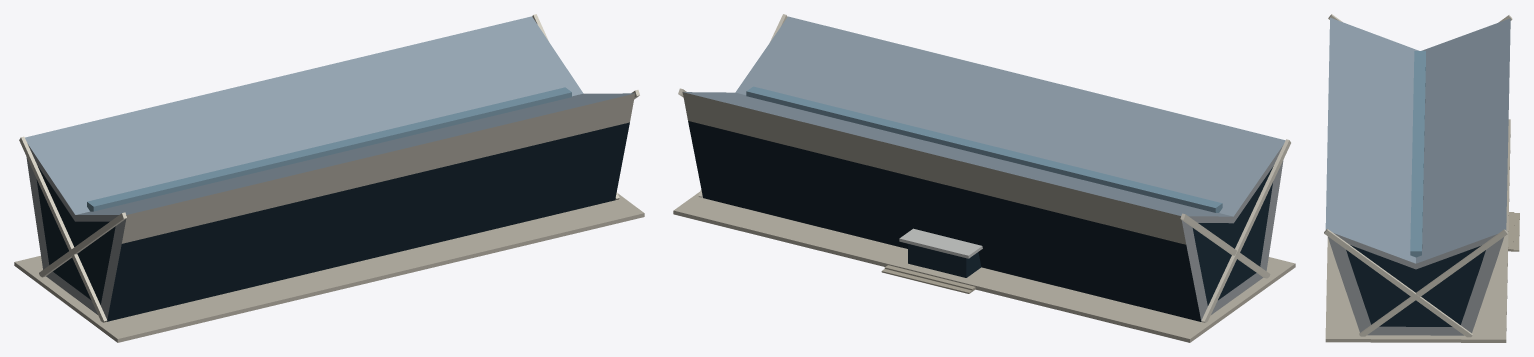
The model's file is perpustakaan-soeman-hs-lod1.glb.
The picture shows the model from 3 angles, left to right: view 1: azimuth 30°, elevation 25°; view 2: azimuth 150°, elevation 25°; view 3: azimuth 270°, elevation 25°; orthographic projection. The views are drawn at different scales.
Parts seen in each view (by area): view 1: perpustakaan-soeman-hs_LOD1; view 2: perpustakaan-soeman-hs_LOD1; view 3: perpustakaan-soeman-hs_LOD1.
Part boxes in pixels (<box>): perpustakaan-soeman-hs_LOD1: <box>14,14,644,342</box>; perpustakaan-soeman-hs_LOD1: <box>673,14,1295,342</box>; perpustakaan-soeman-hs_LOD1: <box>1324,14,1519,342</box>.
Size of the model in its own units: 142 by 33.05 by 53.25.
